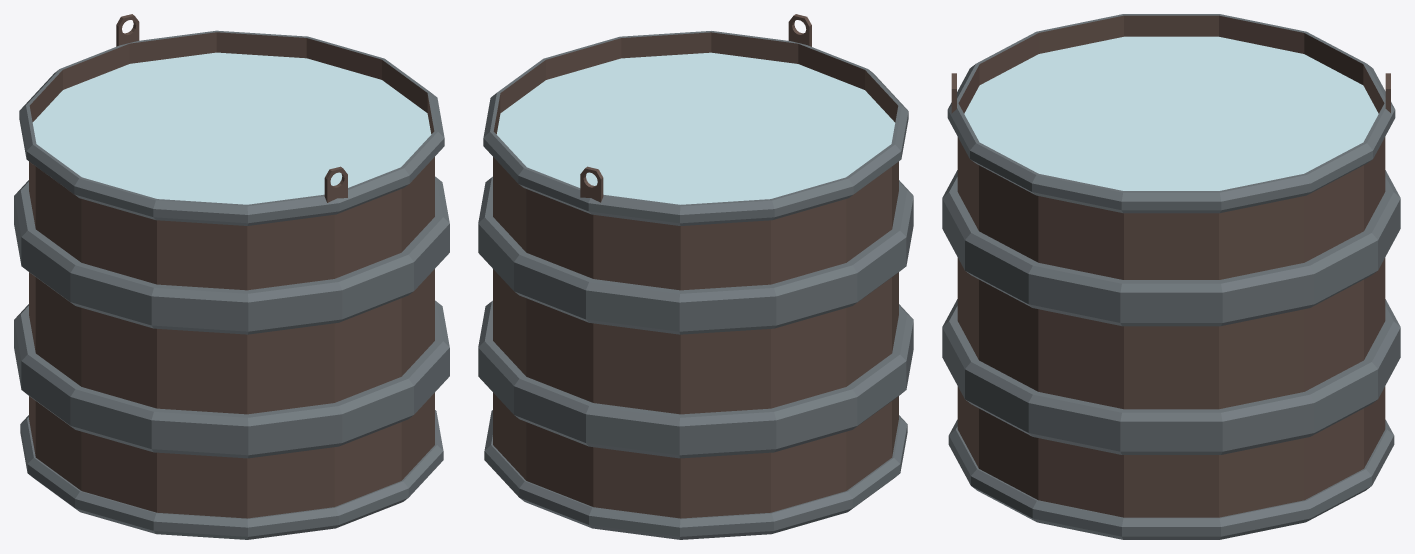
The model's file is Bucket.fbx.
3 renders of one model, left to right at view 1: azimuth 30°, elevation 25°; view 2: azimuth 150°, elevation 25°; view 3: azimuth 270°, elevation 25°, orthographic. The views are drawn at different scales.
Visible parts, largest first — view 1: Cylinder.002; view 2: Cylinder.002; view 3: Cylinder.002.
Part boxes in pixels (left/top/right/bottom): Cylinder.002: left=14, top=14, right=449, bottom=539; Cylinder.002: left=478, top=14, right=913, bottom=539; Cylinder.002: left=942, top=14, right=1400, bottom=539.
Bounding box in the file's own units: 209 × 194 × 215.
